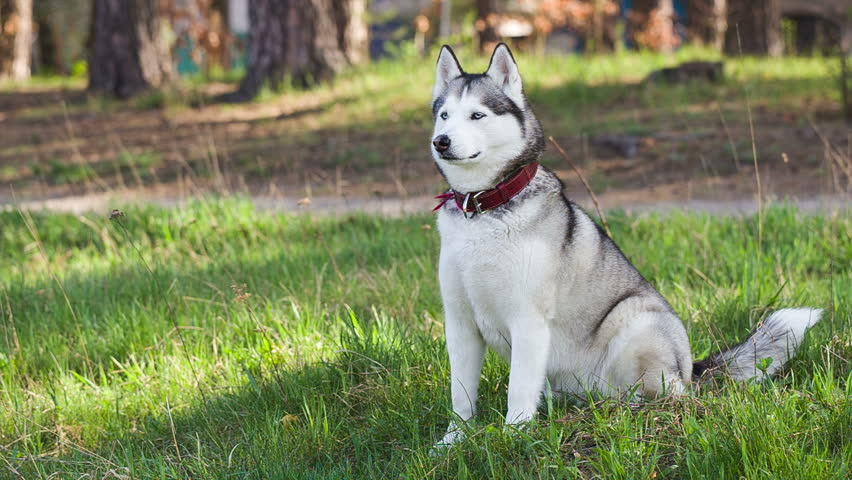dog: (420, 30, 825, 459)
siberian-husky: (418, 28, 823, 457)
